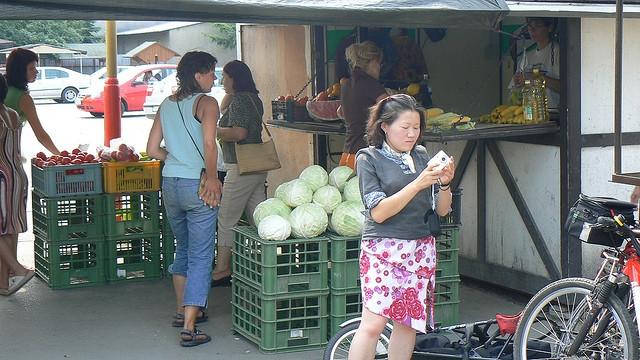banana: (501, 106, 519, 118), (496, 104, 512, 114), (501, 112, 514, 124), (513, 106, 523, 118), (513, 114, 523, 124), (491, 115, 499, 124), (506, 116, 515, 124), (492, 108, 499, 118), (484, 116, 492, 124), (520, 118, 524, 125), (497, 114, 502, 119)
corn: (425, 112, 457, 126), (438, 122, 476, 131), (439, 116, 471, 125), (424, 108, 444, 120), (426, 123, 434, 130)
tomato: (116, 151, 126, 161), (125, 148, 134, 158), (61, 157, 72, 165), (72, 148, 82, 156), (36, 152, 46, 160), (119, 144, 128, 152), (132, 152, 139, 162), (86, 154, 94, 162), (72, 169, 81, 174), (57, 156, 64, 162), (91, 159, 99, 164), (50, 159, 58, 164), (50, 156, 57, 161), (79, 168, 84, 174), (67, 154, 74, 158), (44, 162, 50, 166), (68, 172, 74, 176), (82, 152, 88, 156)
